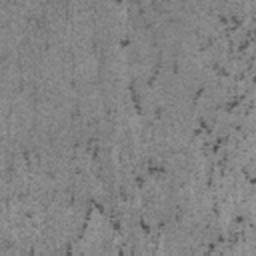Oxide scale of temperature system: (27, 156, 180, 256), (193, 15, 256, 256), (125, 60, 179, 120), (69, 136, 100, 177), (114, 0, 152, 29), (22, 150, 32, 168), (247, 175, 256, 187), (120, 37, 129, 47)
